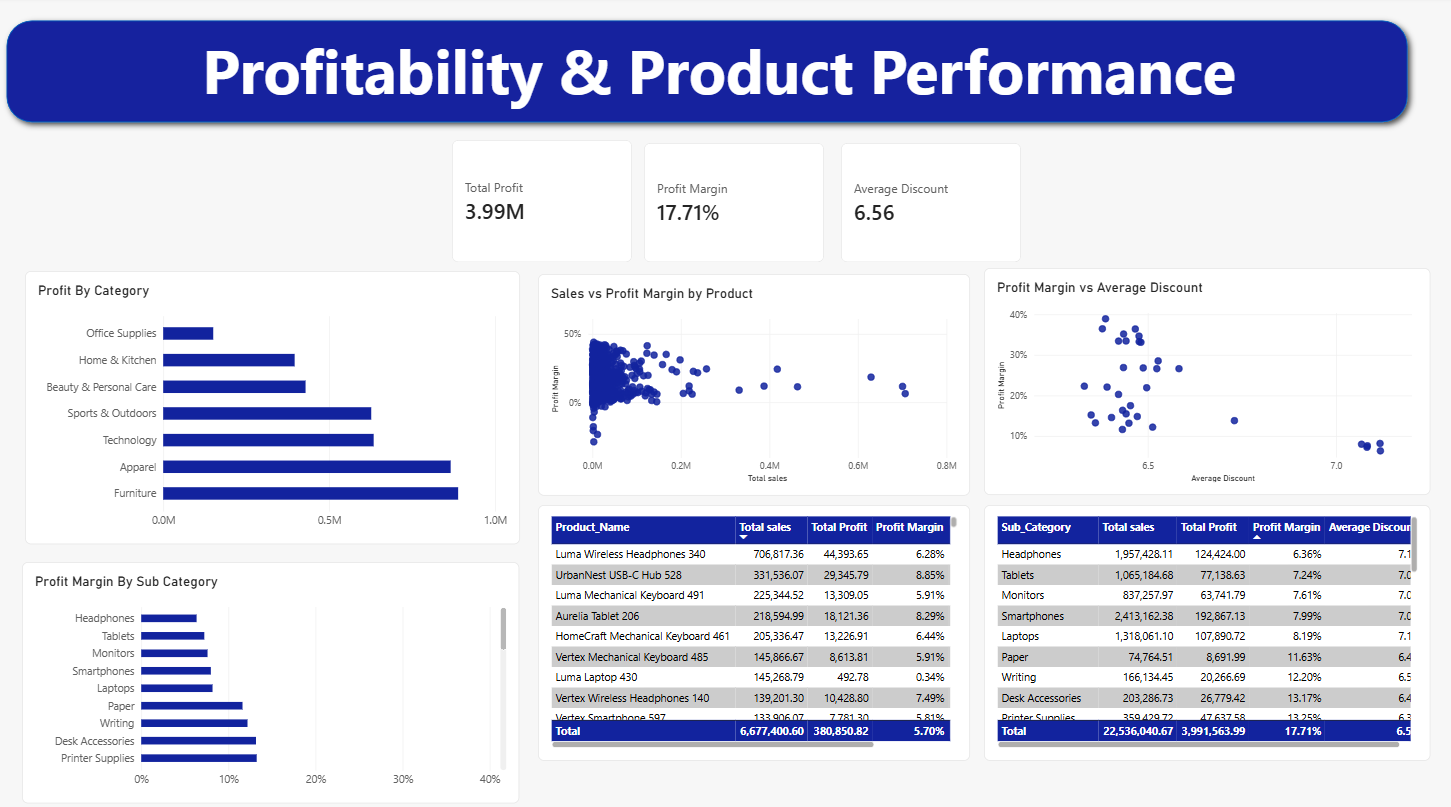

Layout of this report page (visuals, bound fields, positions):
{"tool":"powerbi","page":{"name":"Profitability & Products","canvas":[1920,1080],"ordinal":1},"visuals":[{"type":"cardVisual","fields":{"Data":["FactSales.Total Profit"]},"box":[598.7,187.9,237.8,161.9],"z":0},{"type":"cardVisual","fields":{"Data":["FactSales.Profit Margin"]},"box":[852.6,192.3,237.8,157.6],"z":1000},{"type":"cardVisual","fields":{"Data":["FactSales.Average Discount"]},"box":[1112.3,192.3,237.8,157.6],"z":2000},{"type":"barChart","title":"Profit By Category","fields":{"Category":["DimProduct.Category"],"Y":["FactSales.Total Profit"]},"box":[36.5,360.4,652.2,360.4],"z":3000},{"type":"scatterChart","title":"Sales vs Profit Margin by Product","fields":{"Category":["DimProduct.Product_Name"],"X":["FactSales.Total sales"],"Y":["FactSales.Profit Margin"]},"box":[712,364.7,569,291.8],"z":4000},{"type":"tableEx","fields":{"Values":["DimProduct.Product_Name","FactSales.Total sales","FactSales.Total Profit","FactSales.Profit Margin","FactSales.Average Discount"]},"box":[712,669.7,569,337],"z":5000},{"type":"tableEx","fields":{"Values":["DimProduct.Sub_Category","FactSales.Total sales","FactSales.Total Profit","FactSales.Profit Margin","FactSales.Average Discount"]},"box":[1299.9,669.7,588,337],"z":6000},{"type":"barChart","title":"Profit Margin By Sub Category","fields":{"Category":["DimProduct.Sub_Category"],"Y":["FactSales.Profit Margin"]},"box":[33.6,744.1,655.1,318.1],"z":7000},{"type":"scatterChart","title":"Profit Margin vs Average Discount","fields":{"Category":["DimProduct.Sub_Category"],"X":["FactSales.Average Discount"],"Y":["FactSales.Profit Margin"]},"box":[1299.9,357.4,588,299.1],"z":8000},{"type":"shape","box":[0,18.4,1870.4,159],"z":9000},{"type":"textbox","box":[15.8,42.1,1870.2,110.6],"z":10000}]}

Visuals, with their boxes in screenshot pixels (x1, y1, x2, y2), scaled from the page's 1920x1080 canvas onto the 1451x807 screenshot:
cardVisual - FactSales.Total Profit: box(452, 140, 632, 261)
cardVisual - FactSales.Profit Margin: box(644, 144, 824, 261)
cardVisual - FactSales.Average Discount: box(841, 144, 1020, 261)
"Profit By Category" barChart: box(28, 269, 520, 539)
"Sales vs Profit Margin by Product" scatterChart: box(538, 273, 968, 491)
tableEx - DimProduct.Product_Name x FactSales.Total sales: box(538, 500, 968, 752)
tableEx - DimProduct.Sub_Category x FactSales.Total sales: box(982, 500, 1427, 752)
"Profit Margin By Sub Category" barChart: box(25, 556, 520, 794)
"Profit Margin vs Average Discount" scatterChart: box(982, 267, 1427, 491)
shape: box(0, 14, 1414, 133)
textbox: box(12, 31, 1425, 114)
